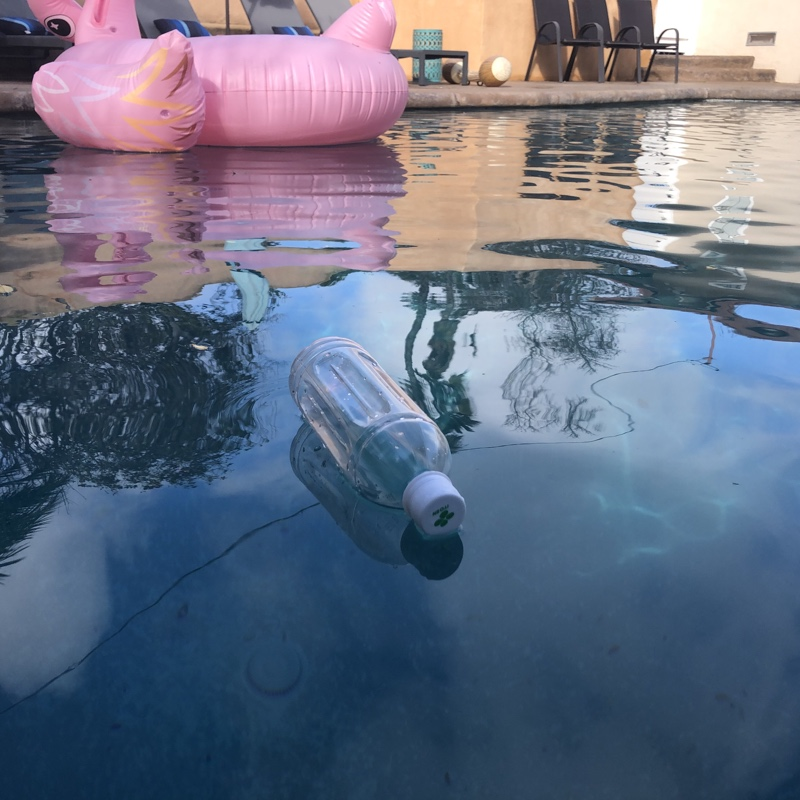Plastic Bottle: (286, 333, 470, 544)
